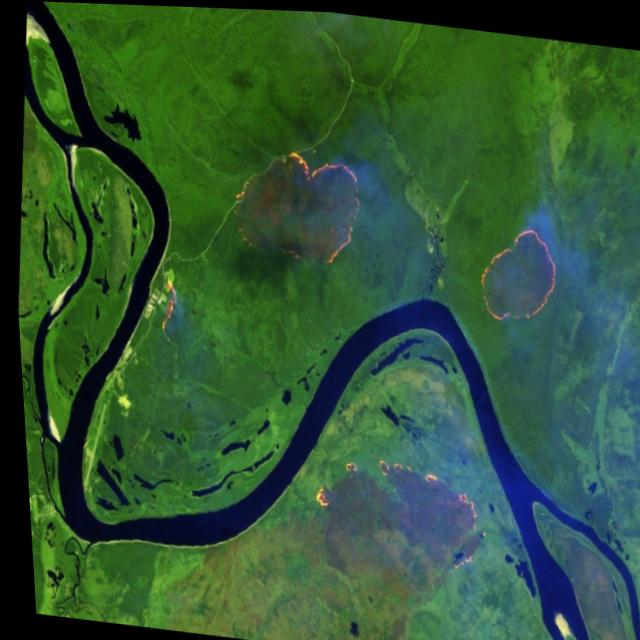fire: (296, 445, 489, 577), (220, 140, 366, 271), (468, 218, 561, 327), (146, 268, 178, 339)
